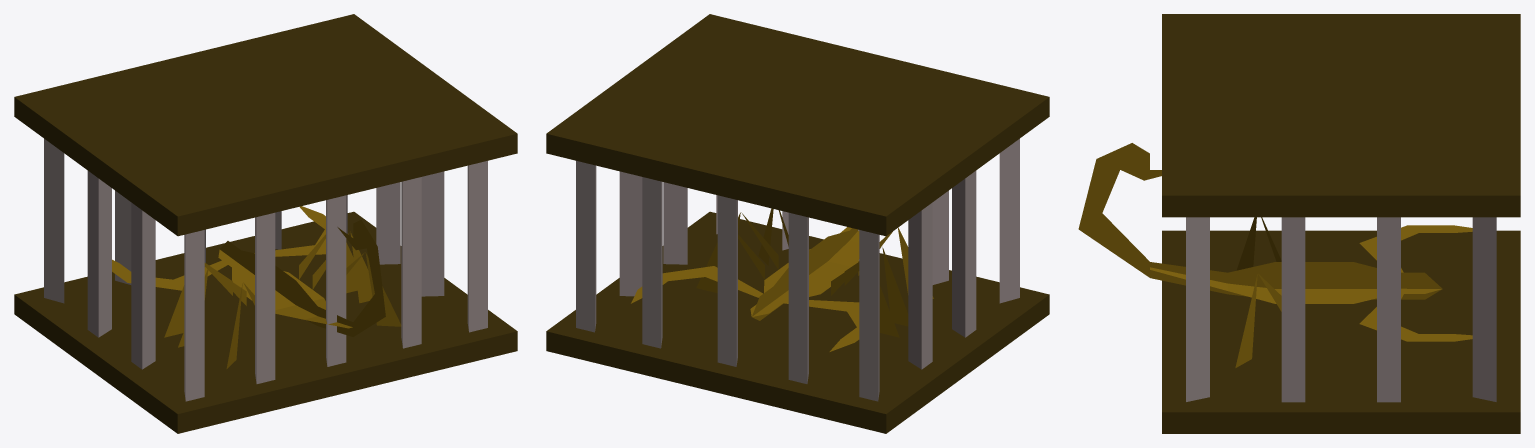
File: inv_scorpion_cage_8.obj
The picture shows the model from 3 angles, left to right: view 1: azimuth 30°, elevation 25°; view 2: azimuth 150°, elevation 25°; view 3: azimuth 270°, elevation 25°; orthographic projection. The views are drawn at different scales.
Bounding box in the file's own units: 0.5625 × 0.3438 × 0.5781.
